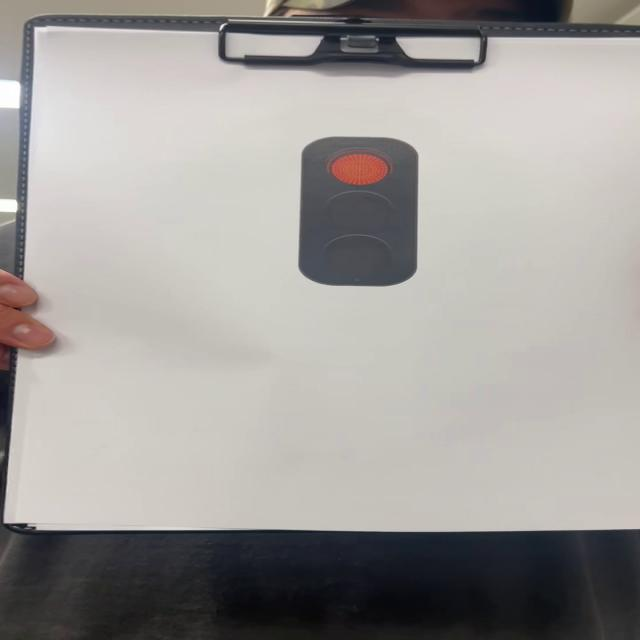red: (300, 133, 422, 287)
